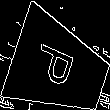P_E: (33, 42, 85, 95)
